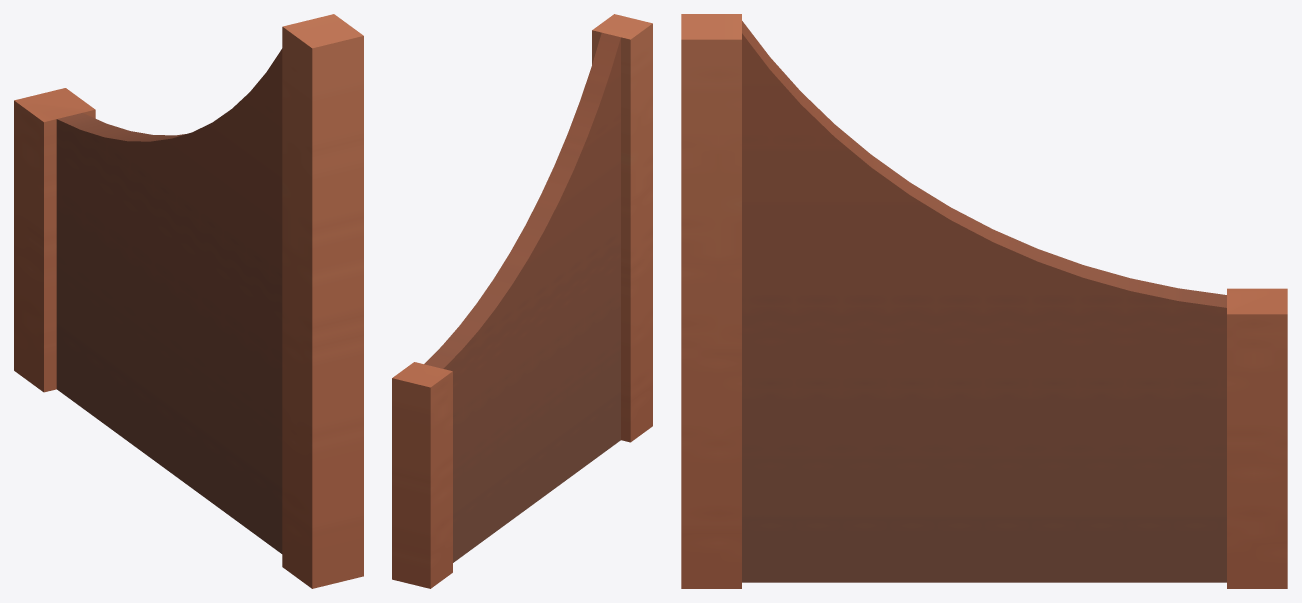
The model's file is wallWoodSlope.fbx.
The picture shows the model from 3 angles, left to right: view 1: azimuth 30°, elevation 25°; view 2: azimuth 150°, elevation 25°; view 3: azimuth 270°, elevation 25°; orthographic projection. The views are drawn at different scales.
Parts seen in each view (by area): view 1: wallWoodSlope; view 2: wallWoodSlope; view 3: wallWoodSlope.
Part boxes in pixels (x1,y1,x2,y2): wallWoodSlope: [14, 14, 363, 588]; wallWoodSlope: [392, 14, 652, 588]; wallWoodSlope: [681, 14, 1287, 588].
Size of the model in its own units: 0.1 by 1 by 1.
